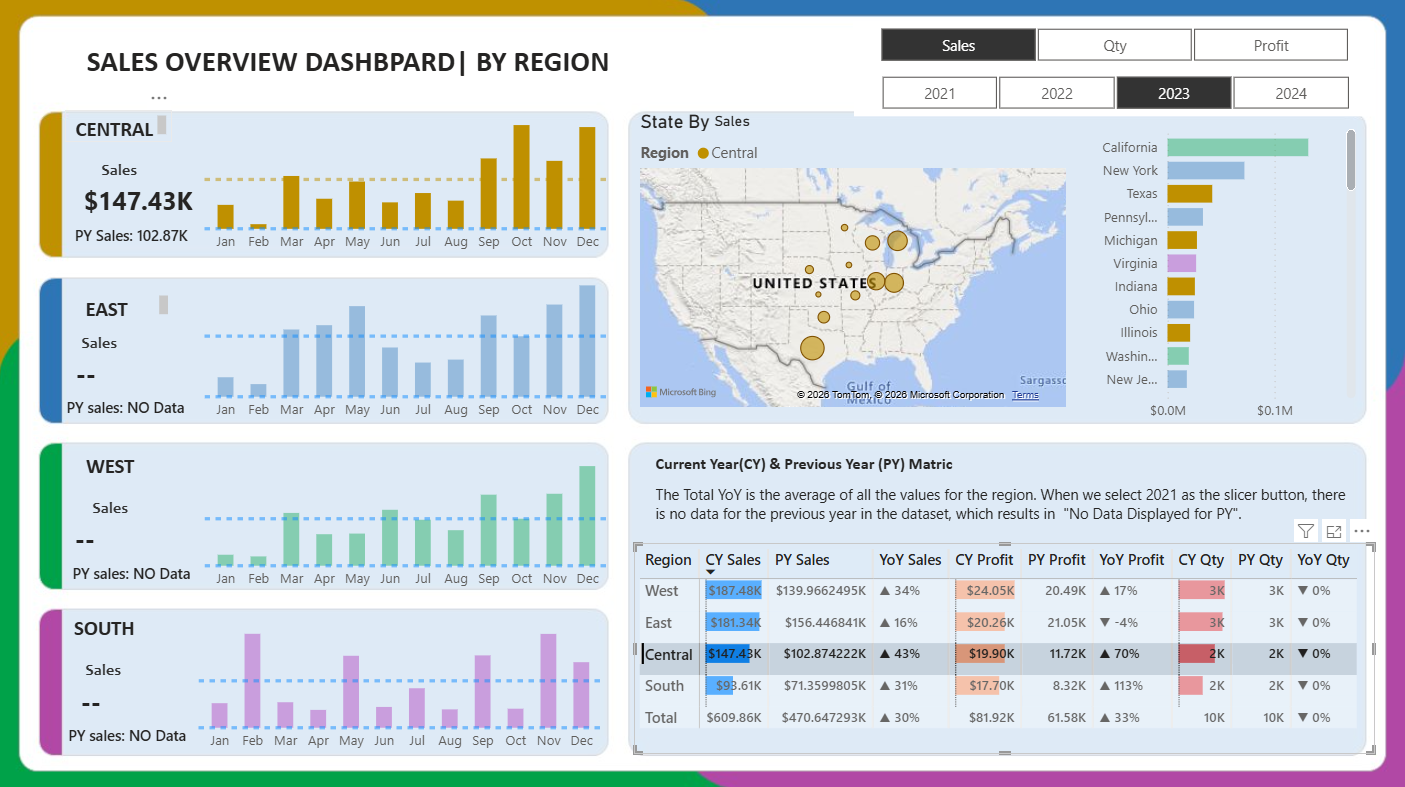

The dashboard page shown, as its layout file describes it:
{"tool":"powerbi","page":{"name":"Sales ODBR","canvas":[1280,720],"ordinal":0},"visuals":[{"type":"textbox","box":[61.2,101.1,96.7,29.3],"z":0},{"type":"slicer","fields":{"Values":["Calendar Table.Year"]},"box":[778.1,63.2,473.7,42.8],"z":1000},{"type":"slicer","fields":{"Values":["Select Matric.Select Matric"]},"box":[777.6,20.4,474.4,42.6],"z":2000},{"type":"cardVisual","fields":{"Data":["Sales Data.Total Sales"]},"box":[61.2,142.8,134.8,67.4],"z":3000},{"type":"card","fields":{"Values":["Sales Data.Dynamic Title"]},"box":[61.2,142.8,98.4,25.7],"z":4000},{"type":"card","fields":{"Values":["Sales Data.PY KPI Sales"]},"box":[54.1,203.9,134.8,26.6],"z":5000},{"type":"clusteredColumnChart","fields":{"Y":["Sales Data.Total Sales"],"Category":["Calendar Table.Month"]},"box":[182.7,85.1,377.7,153.4],"z":6000},{"type":"textbox","box":[54.1,35.5,529.4,65.6],"z":7000},{"type":"textbox","box":[44.3,264.2,115.3,29.3],"z":8000},{"type":"cardVisual","fields":{"Data":["Sales Data.Total Sales"]},"box":[54.1,299.7,134.8,67.4],"z":9000},{"type":"card","fields":{"Values":["Sales Data.Dynamic Title"]},"box":[42.6,299.7,98.4,25.7],"z":10000},{"type":"card","fields":{"Values":["Sales Data.PY KPI Sales"]},"box":[42.6,360,146.3,26.6],"z":11000},{"type":"clusteredColumnChart","fields":{"Y":["Sales Data.Total Sales"],"Category":["Calendar Table.Month"]},"box":[182.7,238.5,377.7,153.4],"z":12000},{"type":"textbox","box":[48.1,421.3,115.3,29.3],"z":13000},{"type":"cardVisual","fields":{"Data":["Sales Data.Total Sales"]},"box":[52.3,450.4,134.8,67.4],"z":14000},{"type":"card","fields":{"Values":["Sales Data.Dynamic Title"]},"box":[52.3,450.4,98.4,25.7],"z":15000},{"type":"card","fields":{"Values":["Sales Data.PY KPI Sales"]},"box":[47.9,510.7,146.3,26.6],"z":16000},{"type":"clusteredColumnChart","fields":{"Y":["Sales Data.Total Sales"],"Category":["Calendar Table.Month"]},"box":[182.7,391.9,377.7,153.4],"z":17000},{"type":"textbox","box":[54.1,407.9,96.7,42.6],"z":18000},{"type":"cardVisual","fields":{"Data":["Sales Data.Total Sales"]},"box":[58.4,598.2,135.2,67.1],"z":19000},{"type":"card","fields":{"Values":["Sales Data.Dynamic Title"]},"box":[46.8,597.6,98.4,25.7],"z":20000},{"type":"card","fields":{"Values":["Sales Data.PY KPI Sales"]},"box":[44.7,658.5,145.9,27.2],"z":21000},{"type":"clusteredColumnChart","fields":{"Y":["Sales Data.Total Sales"],"Category":["Calendar Table.Month"]},"box":[177.1,539.1,377.7,153.4],"z":22000},{"type":"textbox","box":[48.5,555,96.7,42.6],"z":23000},{"type":"map","title":"State By","fields":{"Size":["Sales Data.Total Sales"],"Category":["Sales Data.State/Province"],"Series":["Sales Data.Region"]},"box":[579,101.1,397.2,275.8],"z":24000},{"type":"card","fields":{"Values":["Sales Data.DY_map"]},"box":[583.4,69.2,167.6,86.9],"z":25000},{"type":"barChart","fields":{"Y":["Sales Data.Total Sales"],"Category":["Sales Data.State/Province"],"Series":["Sales Data.Region"]},"box":[986.9,105.5,251.8,286.4],"z":26000},{"type":"pivotTable","fields":{"Rows":["Sales Data.Region"],"Values":["Sales Data.CY Sales","Sales Data.PY Sales","Sales Data.YoY Sales","Sales Data.CY Profit","Sales Data.PY Profit","Sales Data.YoY Profit","Sales Data.CY Qty","Sales Data.PY Qty","Sales Data.YoY Qty"]},"box":[578.1,494.8,673.9,191.5],"z":27000},{"type":"textbox","box":[592.7,408.2,434.5,28.2],"z":30000},{"type":"textbox","box":[592.7,436.4,646.4,48.2],"z":30001}]}

Visuals, with their boxes in screenshot pixels (x1, y1, x2, y2), scaled from the page's 1280x720 canvas onto the 1405x787 screenshot:
textbox: select_region(67, 111, 173, 143)
slicer - Calendar Table.Year: select_region(854, 69, 1374, 116)
slicer - Select Matric.Select Matric: select_region(854, 22, 1374, 69)
cardVisual - Sales Data.Total Sales: select_region(67, 156, 215, 230)
card - Sales Data.Dynamic Title: select_region(67, 156, 175, 184)
card - Sales Data.PY KPI Sales: select_region(59, 223, 207, 252)
clusteredColumnChart - Sales Data.Total Sales x Calendar Table.Month: select_region(201, 93, 615, 261)
textbox: select_region(59, 39, 640, 111)
textbox: select_region(49, 289, 175, 321)
cardVisual - Sales Data.Total Sales: select_region(59, 328, 207, 401)
card - Sales Data.Dynamic Title: select_region(47, 328, 155, 356)
card - Sales Data.PY KPI Sales: select_region(47, 393, 207, 423)
clusteredColumnChart - Sales Data.Total Sales x Calendar Table.Month: select_region(201, 261, 615, 428)
textbox: select_region(53, 461, 179, 493)
cardVisual - Sales Data.Total Sales: select_region(57, 492, 205, 566)
card - Sales Data.Dynamic Title: select_region(57, 492, 165, 520)
card - Sales Data.PY KPI Sales: select_region(53, 558, 213, 587)
clusteredColumnChart - Sales Data.Total Sales x Calendar Table.Month: select_region(201, 428, 615, 596)
textbox: select_region(59, 446, 166, 492)
cardVisual - Sales Data.Total Sales: select_region(64, 654, 213, 727)
card - Sales Data.Dynamic Title: select_region(51, 653, 159, 681)
card - Sales Data.PY KPI Sales: select_region(49, 720, 209, 750)
clusteredColumnChart - Sales Data.Total Sales x Calendar Table.Month: select_region(194, 589, 609, 757)
textbox: select_region(53, 607, 159, 653)
"State By" map: select_region(636, 111, 1072, 412)
card - Sales Data.DY_map: select_region(640, 76, 824, 171)
barChart - Sales Data.Total Sales x Sales Data.State/Province: select_region(1083, 115, 1360, 428)
pivotTable - Sales Data.Region x Sales Data.CY Sales: select_region(635, 541, 1374, 750)
textbox: select_region(651, 446, 1128, 477)
textbox: select_region(651, 477, 1360, 530)
